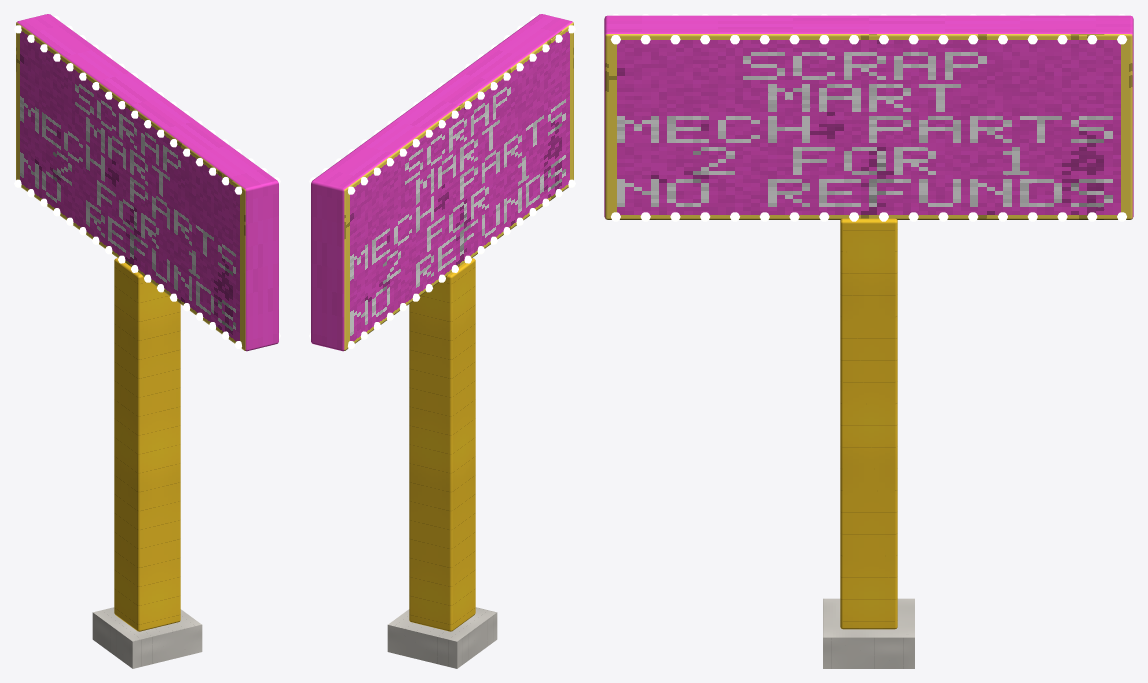
Rendered from p_sm_sign.glb.
3 renders of one model, left to right at view 1: azimuth 30°, elevation 25°; view 2: azimuth 150°, elevation 25°; view 3: azimuth 270°, elevation 25°, orthographic. The views are drawn at different scales.
Visible parts, largest first — view 1: p_sm_sign_lod0; view 2: p_sm_sign_lod0; view 3: p_sm_sign_lod0.
Boxes of the visible parts, x1,y1,x2,y2 form: p_sm_sign_lod0: (14, 14, 280, 668); p_sm_sign_lod0: (309, 14, 575, 668); p_sm_sign_lod0: (604, 14, 1133, 668).
Size of what is drawn, in the model's own units: 1.6 by 12 by 9.2.
Materials: 2 (1 with a texture image).
